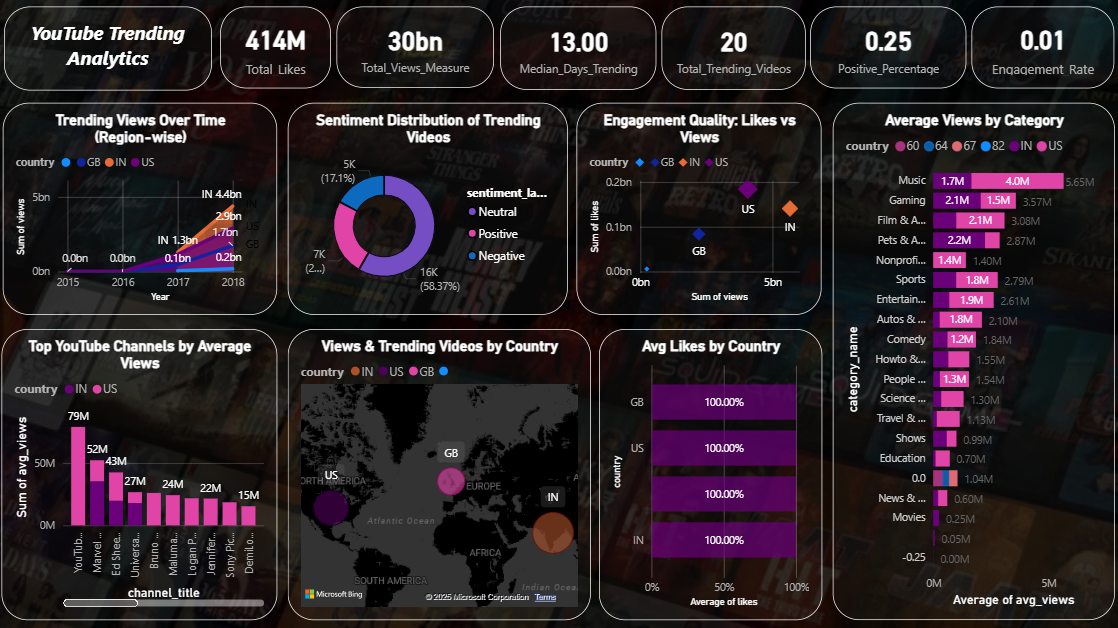

Layout of this report page (visuals, bound fields, positions):
{"tool":"powerbi","page":{"name":"Page 1","canvas":[1280,720],"ordinal":0},"visuals":[{"type":"card","title":"Total Views\n","fields":{"Values":["TrendingDuration.Total_Trending_Videos"]},"box":[757.5,8.8,165,95],"z":0},{"type":"card","fields":{"Values":["TrendingDuration.Median_Days_Trending"]},"box":[572.5,8.8,178.8,95],"z":1000},{"type":"card","fields":{"Values":["TimeSeriesView.Engagement_Rate"]},"box":[1111.7,8.3,163.3,93.3],"z":2000},{"type":"card","fields":{"Values":["TimeSeriesView.Total_Views_Measure"]},"box":[385,8.8,180,92.5],"z":3000},{"type":"textbox","box":[5,8.8,237.5,96.2],"z":4000},{"type":"barChart","title":"Average Views by Category ","fields":{"Series":["CategoryAvgViews.country"],"Y":["Avg(CategoryAvgViews.avg_views)"],"Category":["CategoryAvgViews.category_name"]},"box":[952.5,118.8,322.5,591.2],"z":5000},{"type":"card","fields":{"Values":["CategoryAvgViews.Total_Likes"]},"box":[252.5,8.8,126.2,93.8],"z":6000},{"type":"card","fields":{"Values":["SentimentDistribution.Positive_Percentage"]},"box":[927.5,8.8,178.8,93.8],"z":7000},{"type":"lineChart","title":"Trending Views Over Time (Region-wise)","fields":{"Category":["Date.Date.Variation.Date Hierarchy.Year","Date.Date.Variation.Date Hierarchy.Quarter","Date.Date.Variation.Date Hierarchy.Month","Date.Date.Variation.Date Hierarchy.Day"],"Y":["Sum(Cleaned_Youtube.views)"],"Series":["Cleaned_Youtube.country"]},"box":[3.8,118.8,313.8,242.5],"z":8000},{"type":"donutChart","title":"Sentiment Distribution of Trending Videos","fields":{"Category":["SentimentDistribution.sentiment_label"],"Y":["Sum(SentimentDistribution.total_videos)"]},"box":[330,118.8,320,242.5],"z":9000},{"type":"columnChart","title":"Top YouTube Channels by Average Views","fields":{"Category":["TopChannels.channel_title"],"Y":["Sum(TopChannels.avg_views)"],"Series":["TopChannels.country"]},"box":[2.5,377.5,315,332.5],"z":10000},{"type":"scatterChart","title":"Engagement Quality: Likes vs Views","fields":{"X":["Sum(Cleaned_Youtube.views)"],"Y":["Sum(Cleaned_Youtube.likes)"],"Series":["Cleaned_Youtube.country"],"Size":["Sum(Cleaned_Youtube.comment_count)"]},"box":[660,118.8,280,242.5],"z":11000},{"type":"map","title":"Views & Trending Videos by Country","fields":{"Category":["Cleaned_Youtube.country"],"Size":["Cleaned_Youtube.Total_Views"],"Series":["Cleaned_Youtube.country"]},"box":[330,377.5,346.2,332.5],"z":12000},{"type":"hundredPercentStackedBarChart","title":"Avg Likes by Country","fields":{"Y":["Avg(Cleaned_Youtube.likes)"],"Category":["Cleaned_Youtube.country"]},"box":[686.2,377.5,255,332.5],"z":13000}]}

Visuals, with their boxes in screenshot pixels (x1, y1, x2, y2), scaled from the page's 1280x720 canvas onto the 1118x628 screenshot:
"Total Views
" card: 662, 8, 806, 91
card - TrendingDuration.Median_Days_Trending: 500, 8, 656, 91
card - TimeSeriesView.Engagement_Rate: 971, 7, 1114, 89
card - TimeSeriesView.Total_Views_Measure: 336, 8, 493, 88
textbox: 4, 8, 212, 92
"Average Views by Category " barChart: 832, 104, 1114, 619
card - CategoryAvgViews.Total_Likes: 221, 8, 331, 89
card - SentimentDistribution.Positive_Percentage: 810, 8, 966, 89
"Trending Views Over Time (Region-wise)" lineChart: 3, 104, 277, 315
"Sentiment Distribution of Trending Videos" donutChart: 288, 104, 568, 315
"Top YouTube Channels by Average Views" columnChart: 2, 329, 277, 619
"Engagement Quality: Likes vs Views" scatterChart: 576, 104, 821, 315
"Views & Trending Videos by Country" map: 288, 329, 591, 619
"Avg Likes by Country" hundredPercentStackedBarChart: 599, 329, 822, 619
